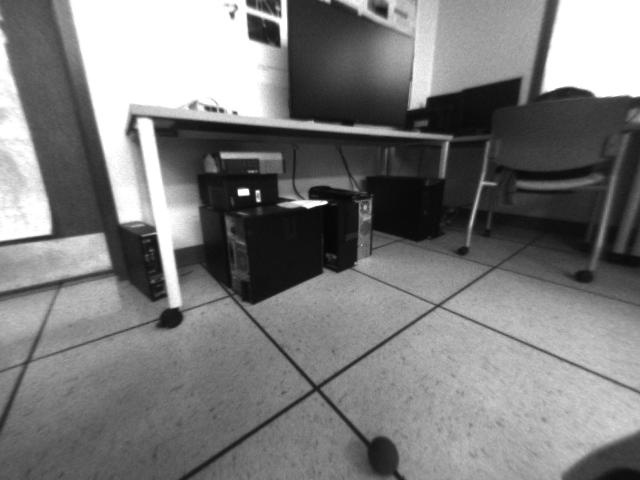dogtoy: (361, 429, 407, 480)
